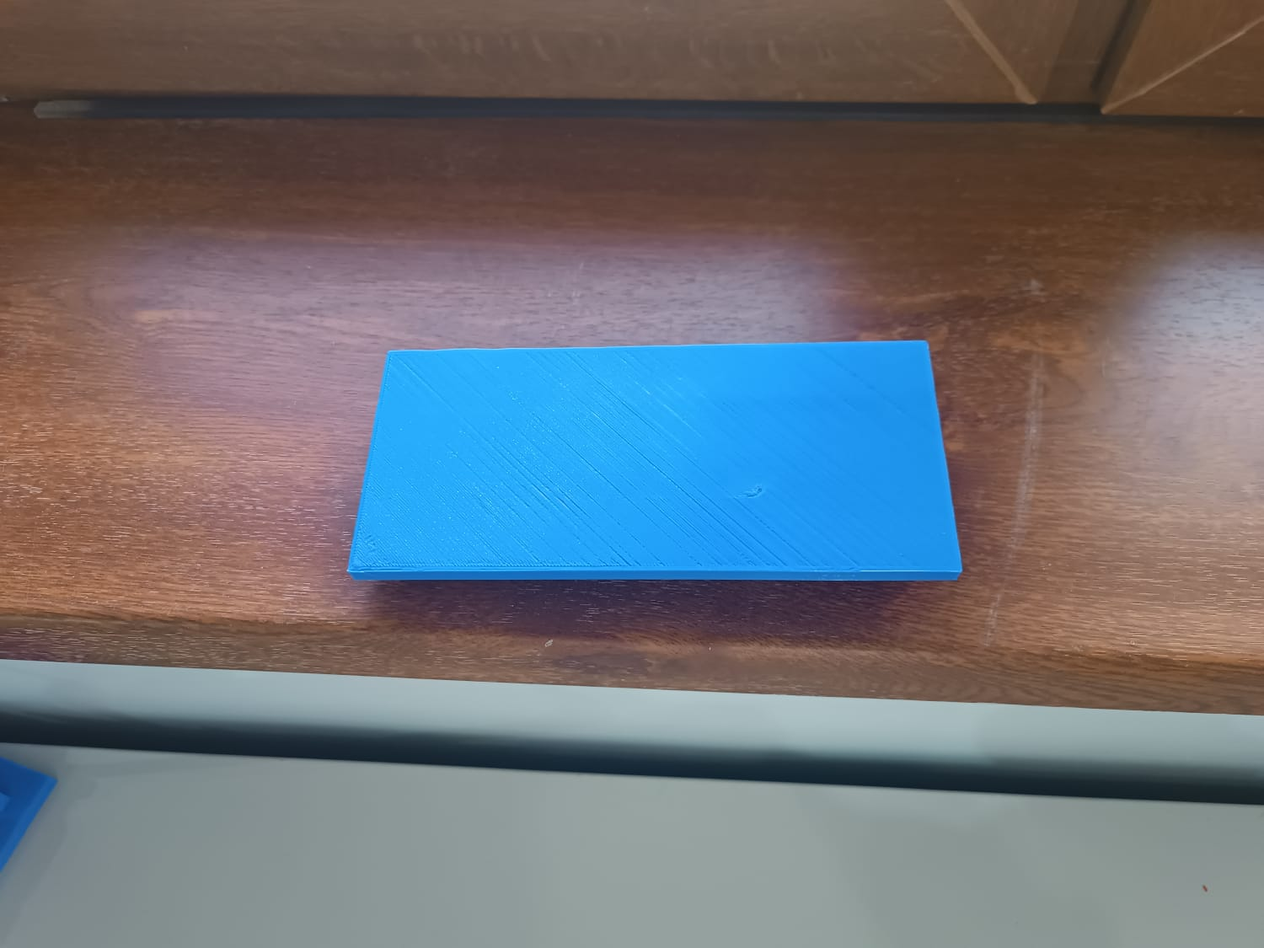Rectangular: (337, 328, 979, 589)
